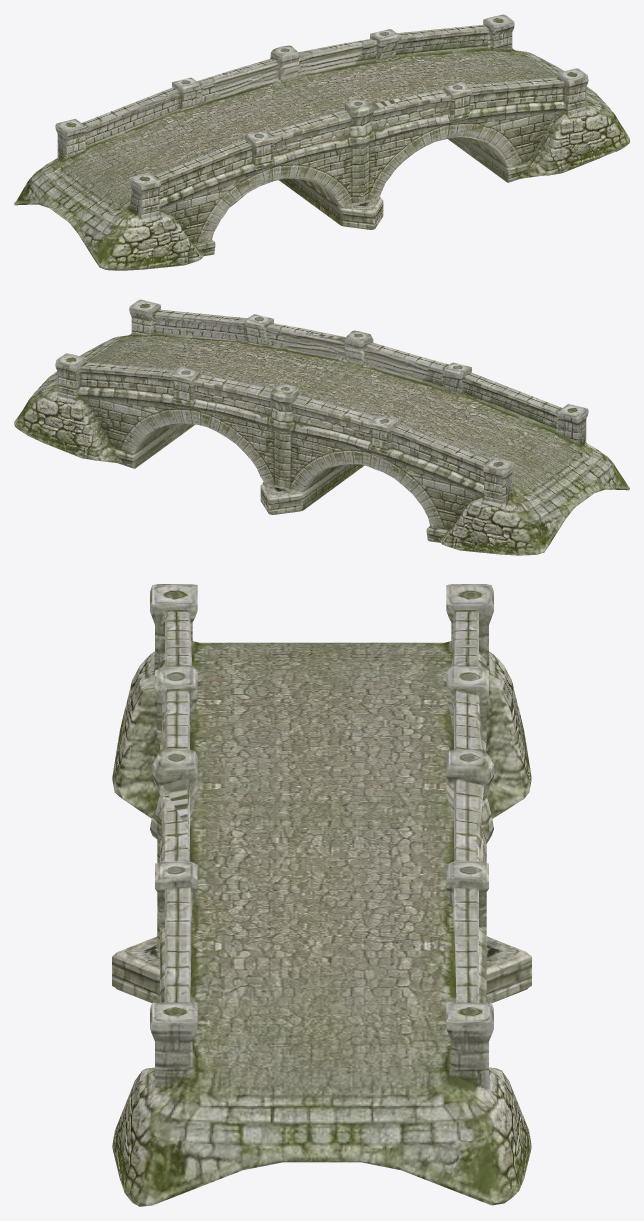
The model's file is bridge_stone.glb.
3 views of the same model, one above another, from view 1: azimuth 30°, elevation 25°; view 2: azimuth 150°, elevation 25°; view 3: azimuth 270°, elevation 25° (orthographic). The views are drawn at different scales.
Size of the model in its own units: 1.91 by 0.3953 by 0.6536.
1 material, 1 textured.
